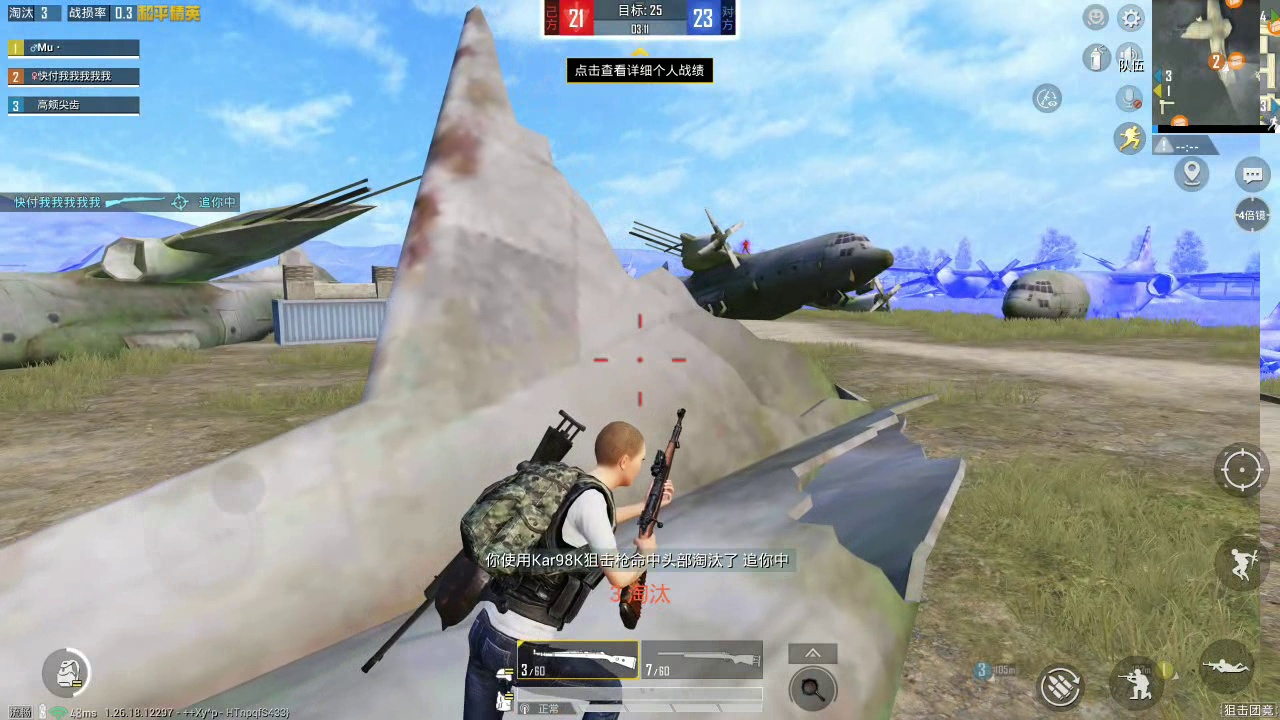enemy: (741, 239, 752, 253)
